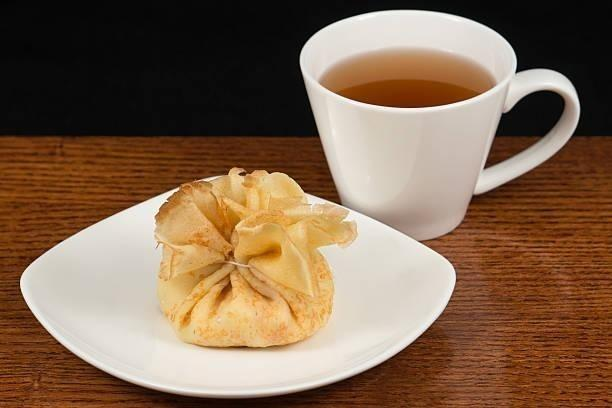cup-handle: (299, 7, 581, 241)
